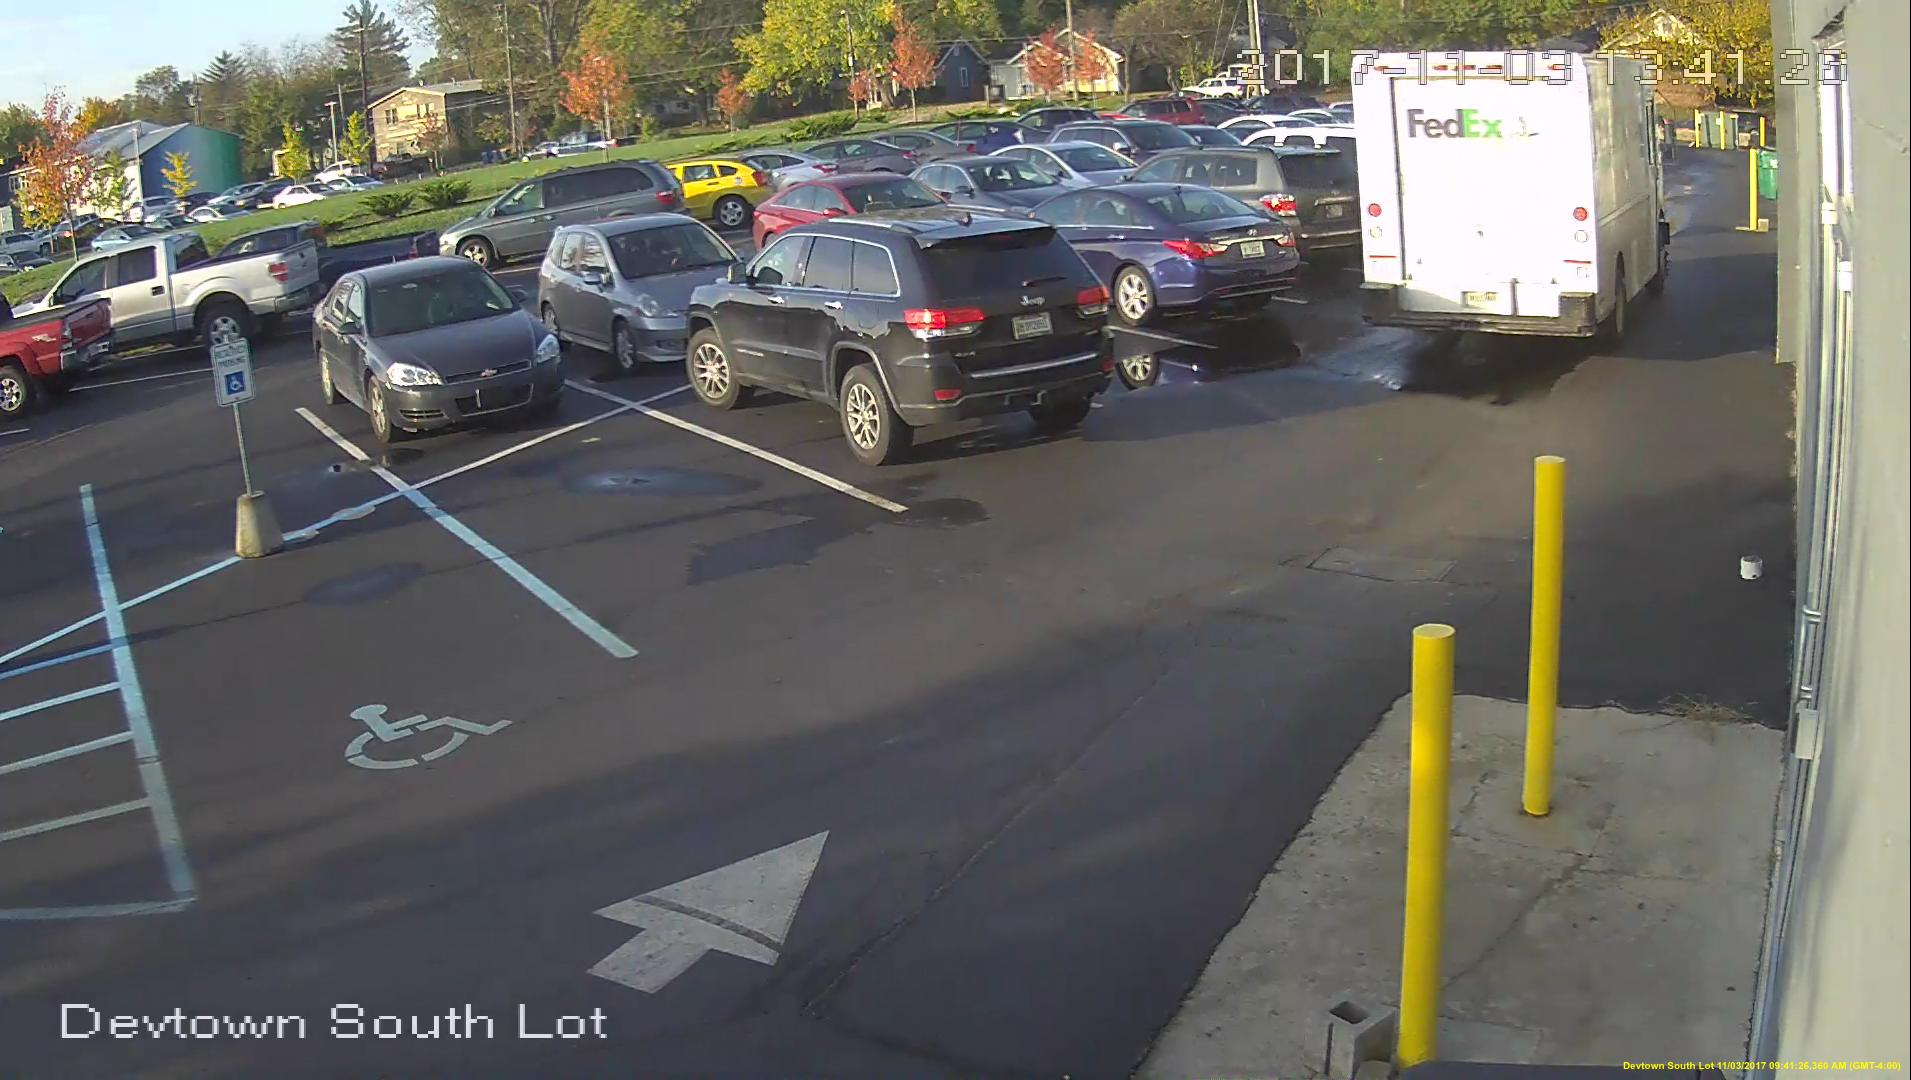fedex_truck: (1340, 46, 1680, 350)
